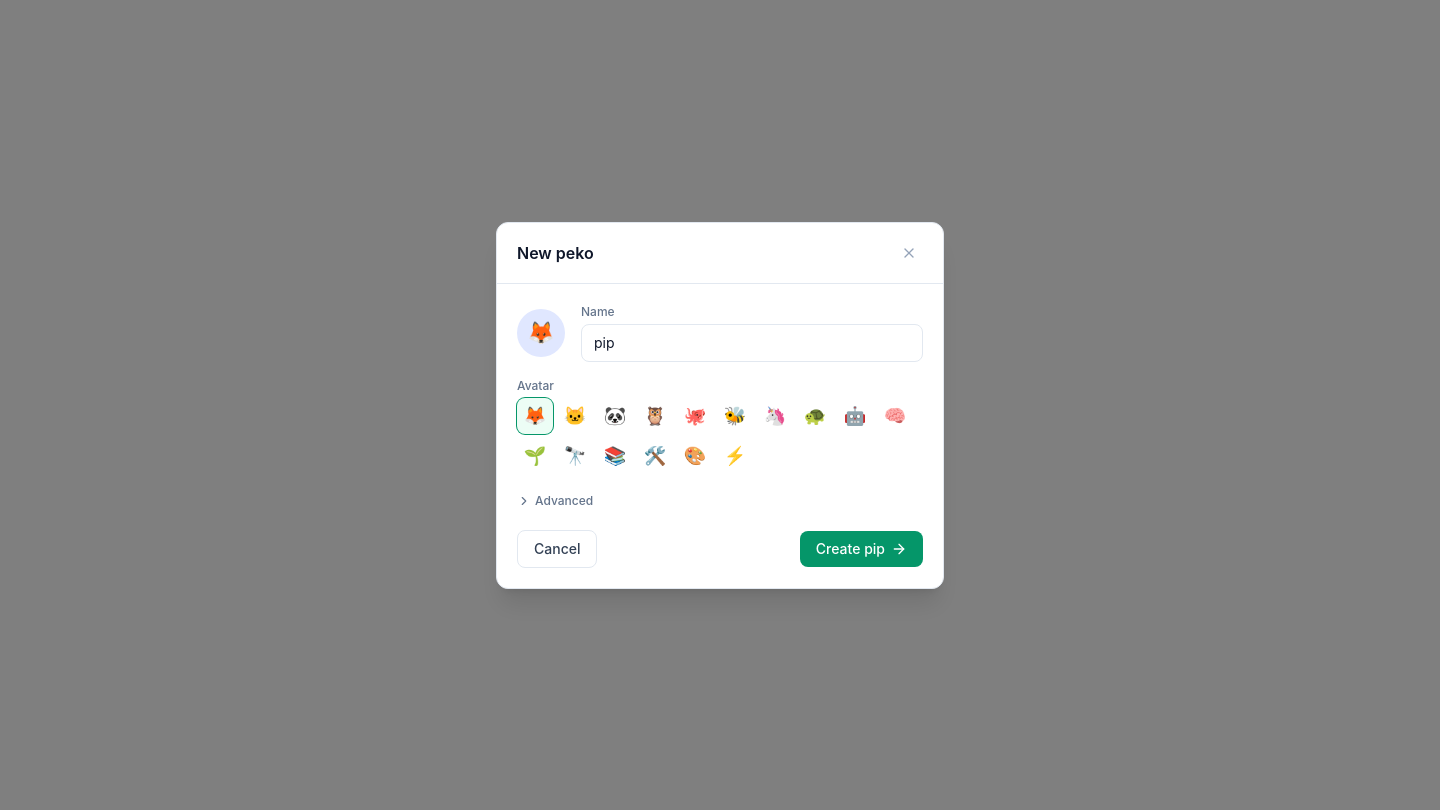
it: CreatePrincipalModal › refuses a name already taken
The width and height of the screenshot is (1440, 810).
Replace the text in the field labelled "Name" with "nova" at [752, 342], box [581, 324, 923, 362]
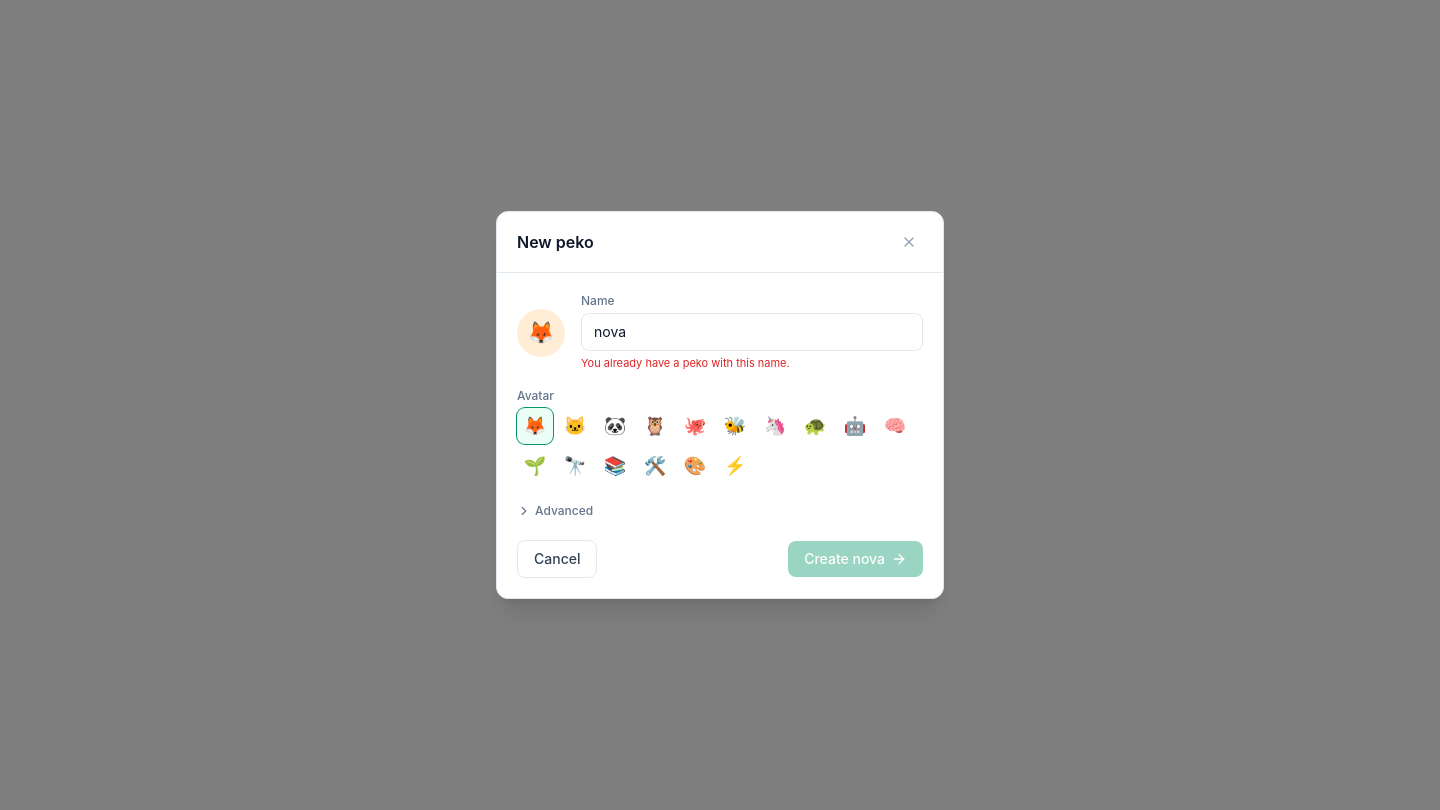
Result: the text "You already have a peko with this name." is shown at [581, 356, 790, 370]
Result: the button "Create nova" is disabled at [788, 541, 923, 577]
